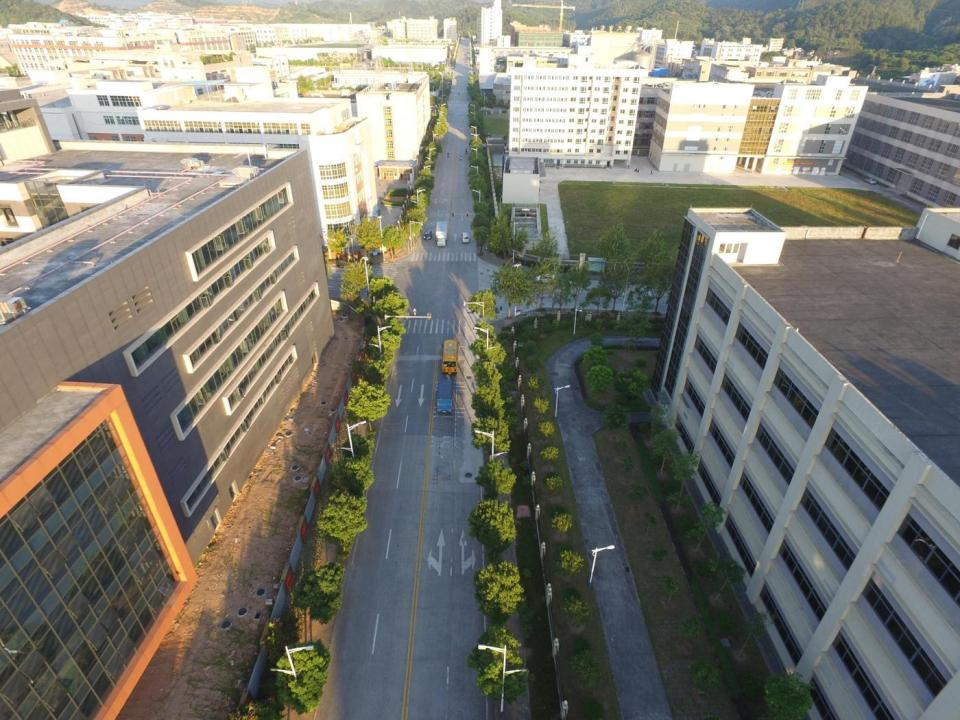bus: (439, 339, 460, 374)
car: (536, 273, 556, 284), (423, 228, 432, 242), (863, 177, 876, 184)
truck: (437, 379, 453, 414), (435, 220, 448, 248)
van: (460, 232, 470, 243)
